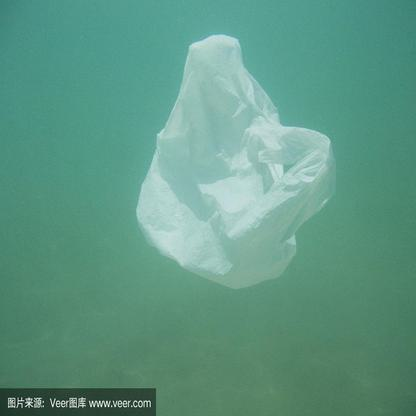plastic bag: (137, 34, 336, 287)
